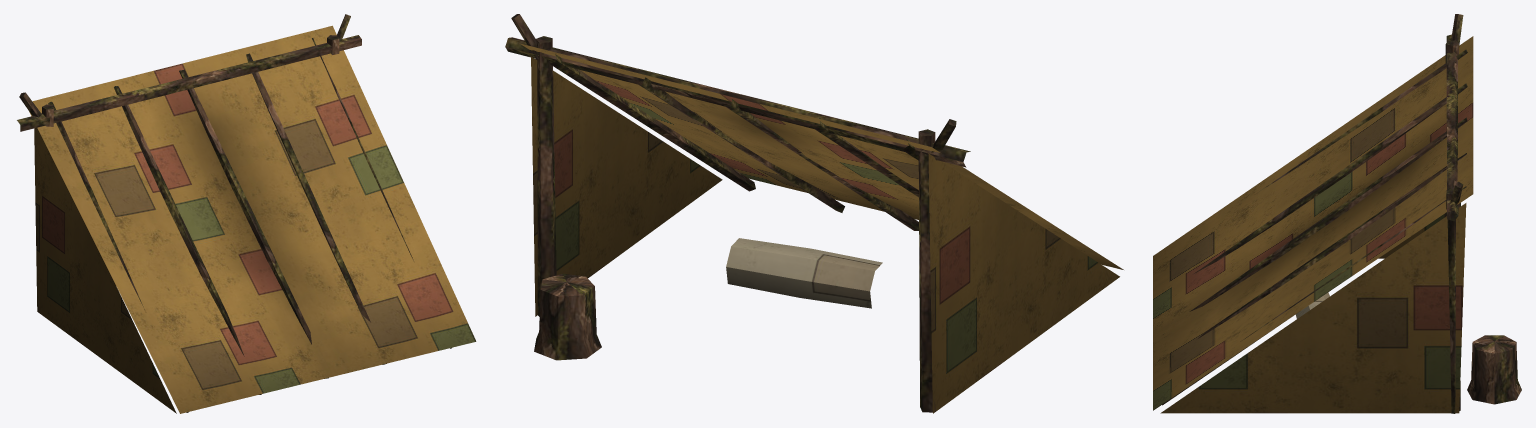
Rendered from camp_lean_to.glb.
The picture shows the model from 3 angles, left to right: view 1: azimuth 30°, elevation 25°; view 2: azimuth 150°, elevation 25°; view 3: azimuth 270°, elevation 25°; orthographic projection. The views are drawn at different scales.
Visible parts, largest first — view 1: camp_lean_to; view 2: camp_lean_to; view 3: camp_lean_to.
Part boxes in pixels (left/top/right/bottom): camp_lean_to: left=17, top=14, right=476, bottom=413; camp_lean_to: left=505, top=14, right=1123, bottom=413; camp_lean_to: left=1153, top=14, right=1521, bottom=413.
Size of the model in its own units: 3 by 1.89 by 2.62.
3 materials, 3 textured.
